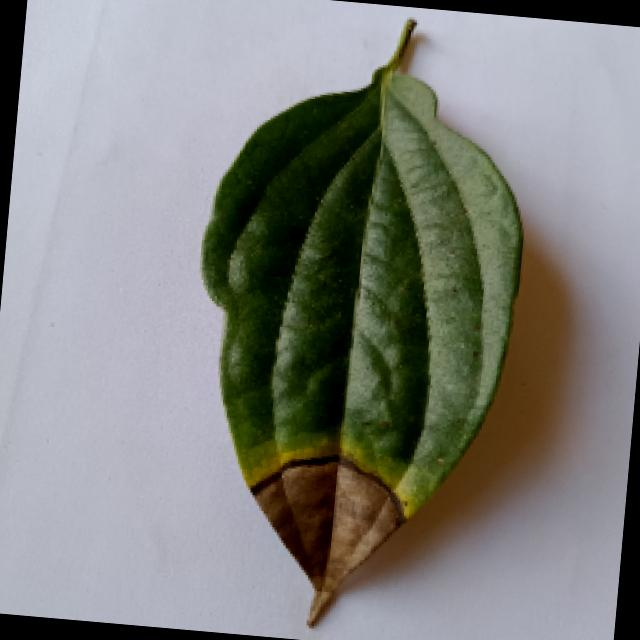footrot: (156, 14, 577, 640)
